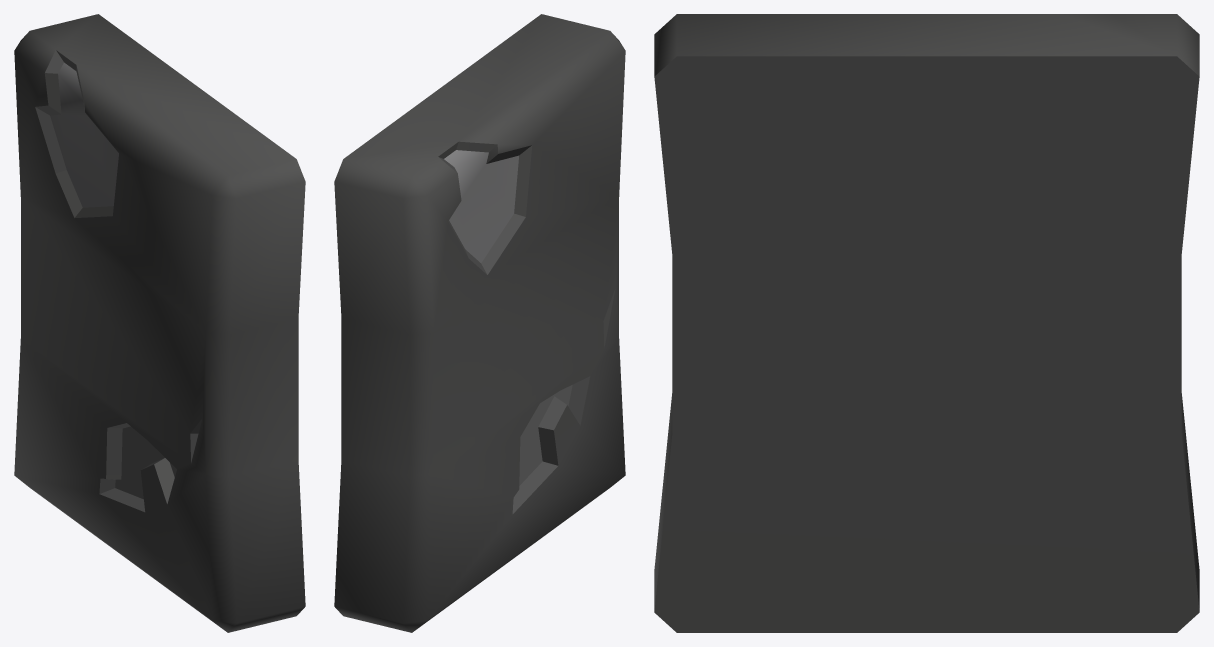
Rendered from Table_2_4.glb.
3 renders of one model, left to right at view 1: azimuth 30°, elevation 25°; view 2: azimuth 150°, elevation 25°; view 3: azimuth 270°, elevation 25°, orthographic. The views are drawn at different scales.
Parts seen in each view (by area): view 1: Table_2_4; view 2: Table_2_4; view 3: Table_2_4.
Boxes of the visible parts, box(x1,y1,x2,y2) form: Table_2_4: box(14, 14, 305, 632); Table_2_4: box(334, 14, 625, 632); Table_2_4: box(654, 14, 1199, 632).
Size of the model in its own units: 0.0894 by 0.4635 by 0.3972.
Materials: 1 (1 with a texture image).
